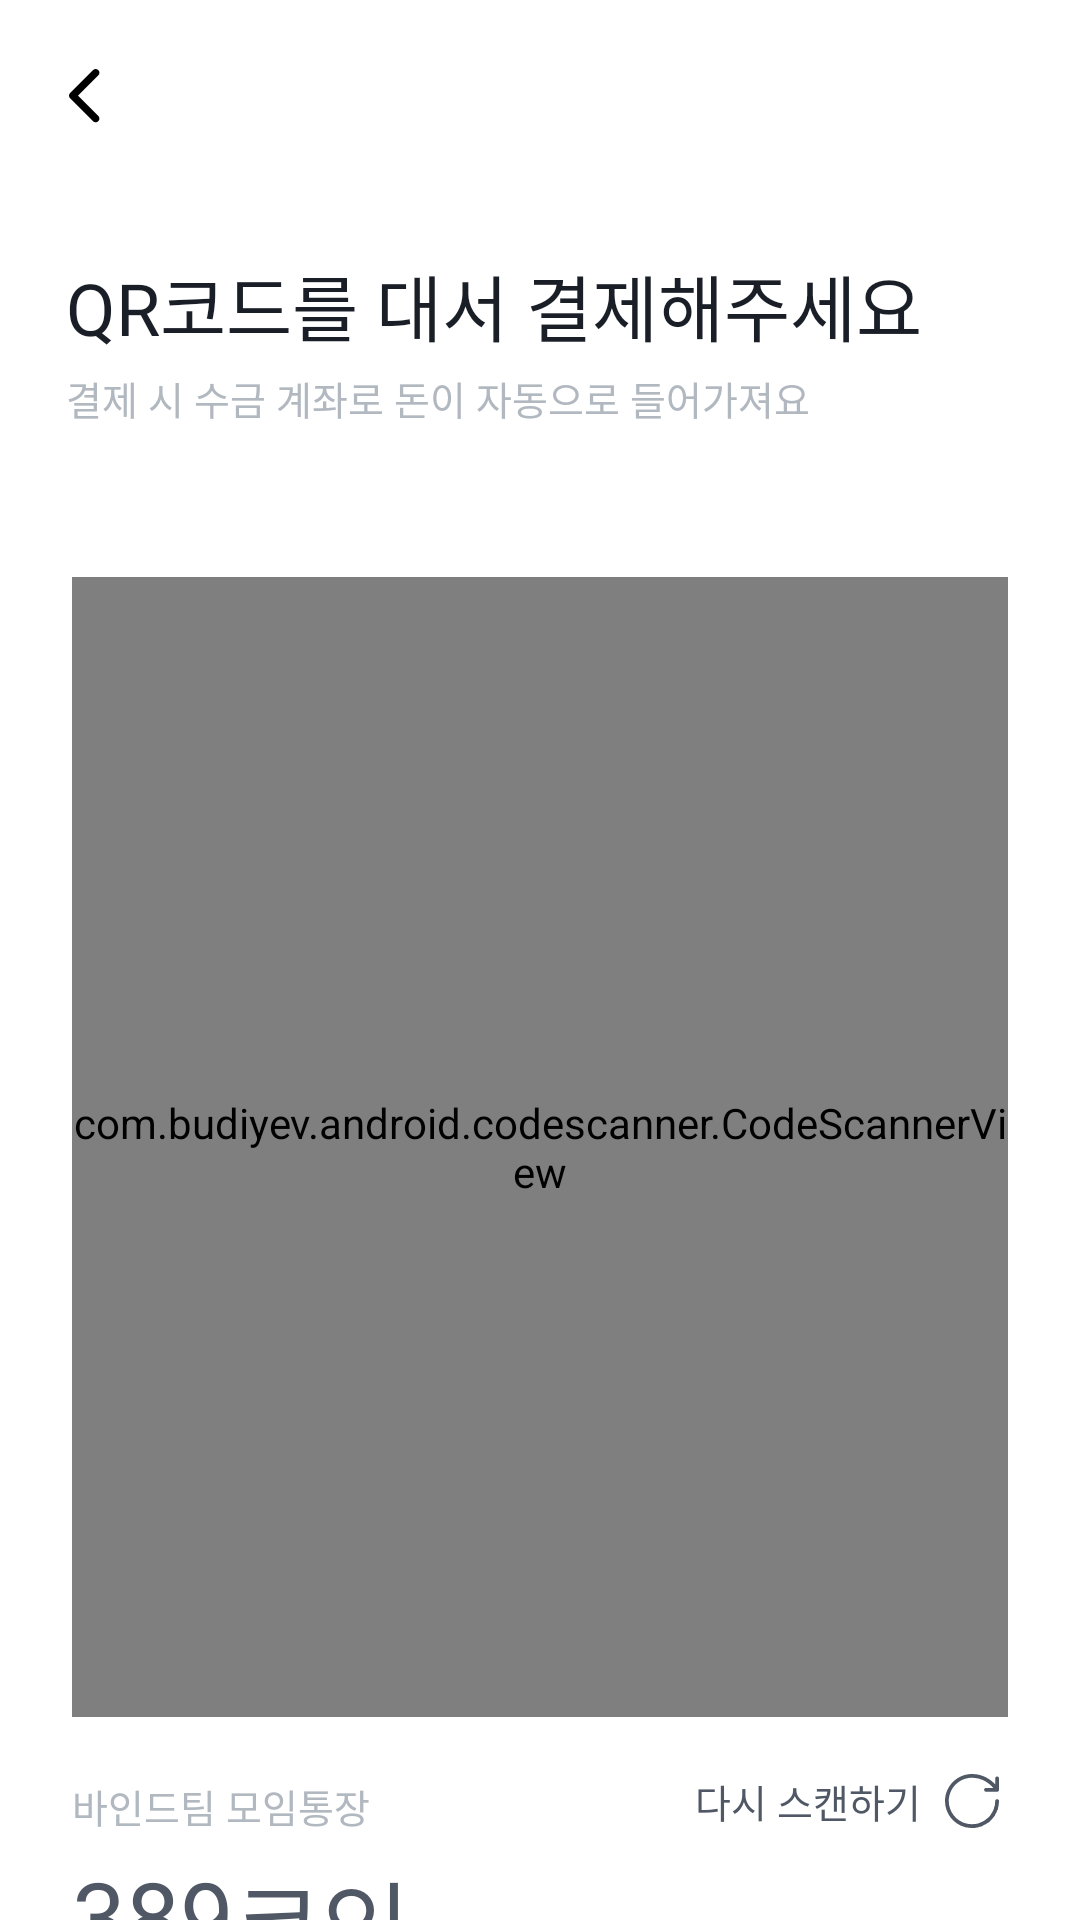

Named icons in this screenshot (1080w x 1920h) and their centers, [x,y]:
reload: [972,1801]
